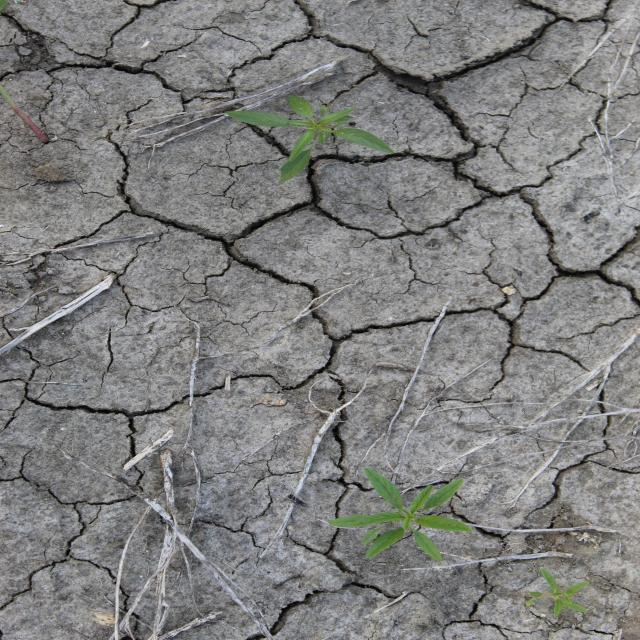Waterhemp: (224, 93, 398, 186), (326, 467, 474, 563), (524, 566, 592, 618)
